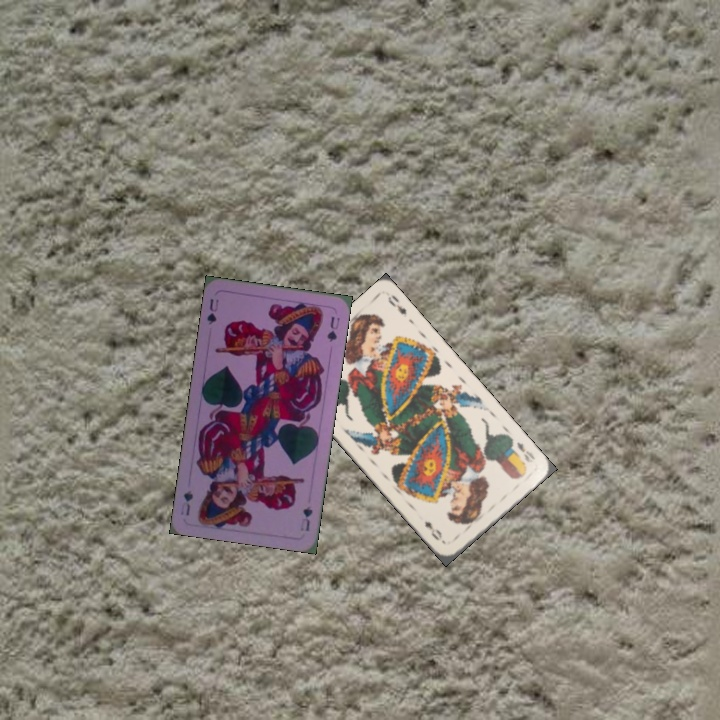EO: (512, 438, 538, 465)
GU: (296, 502, 315, 534), (203, 295, 221, 327)
